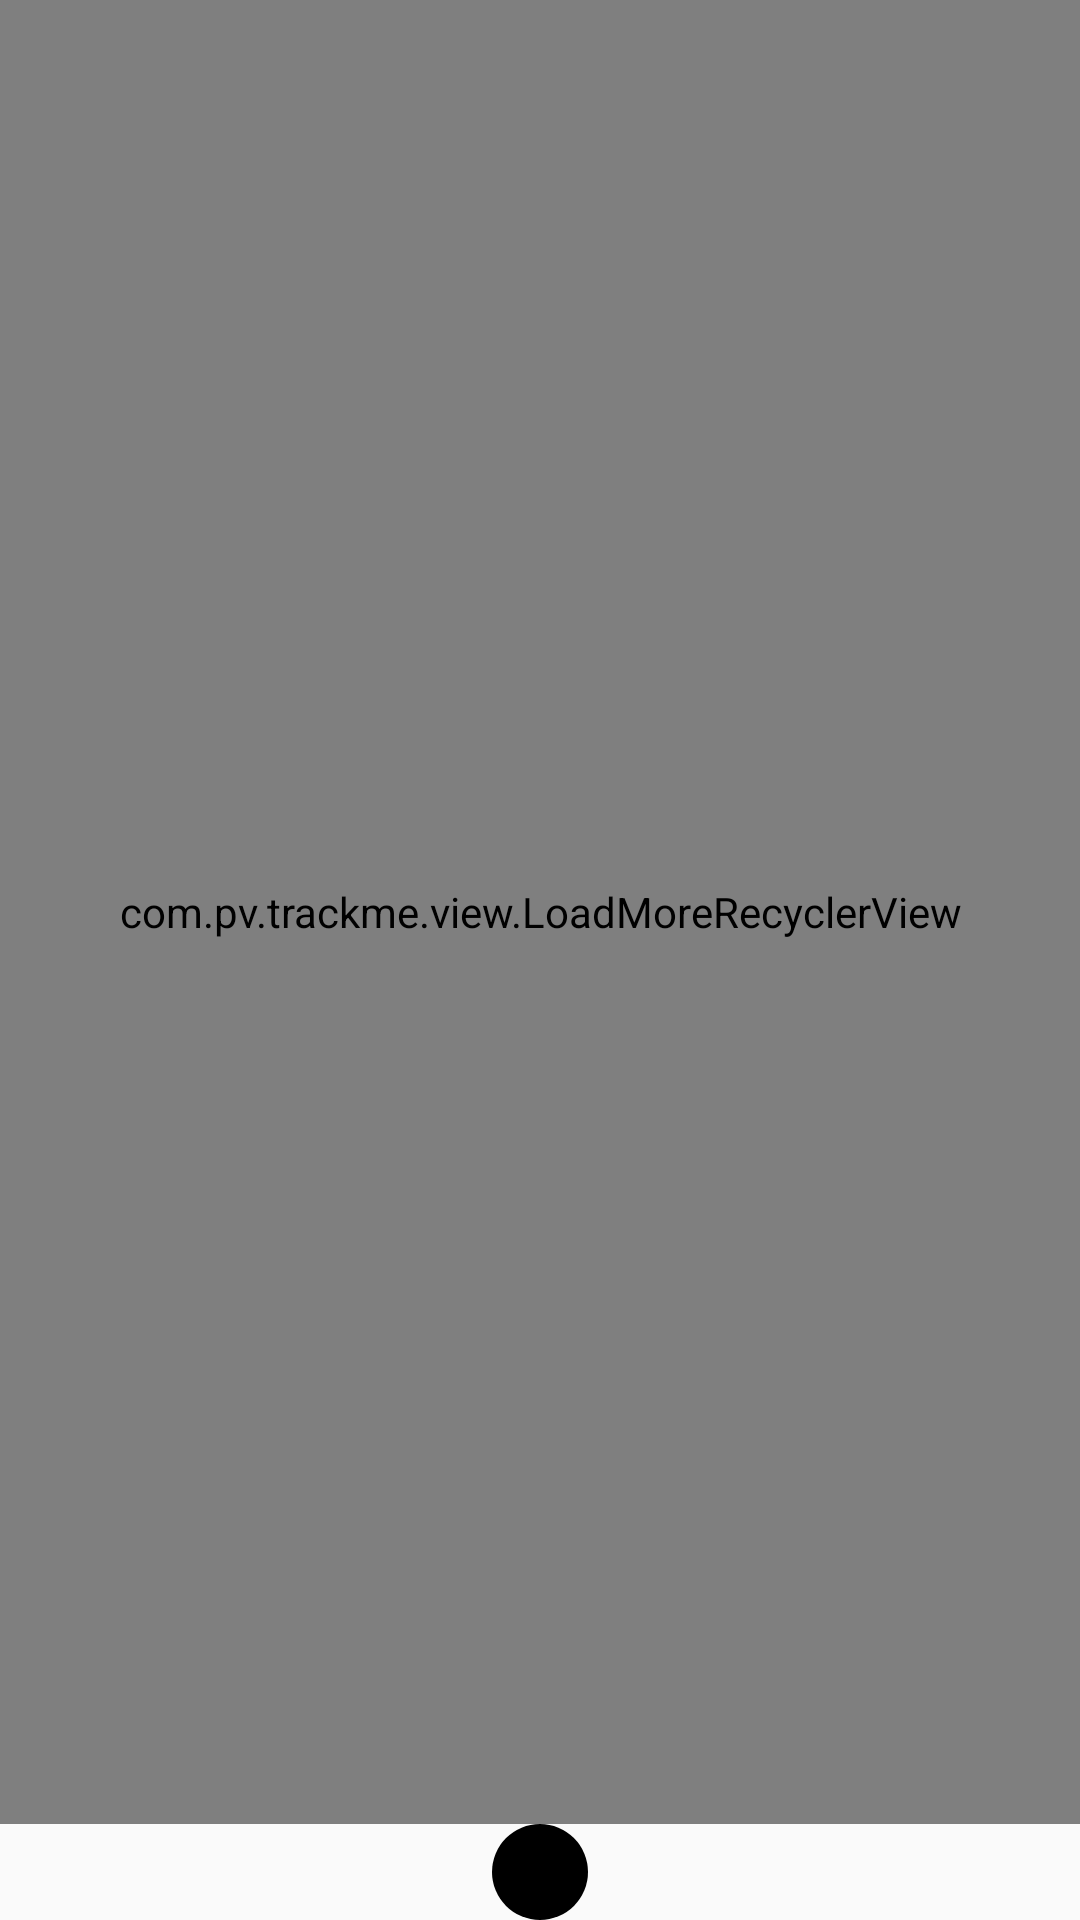

Icons on this 1080 x 1920 Android screen, each with the point to tap as [x,y]:
record: [540,1872]
